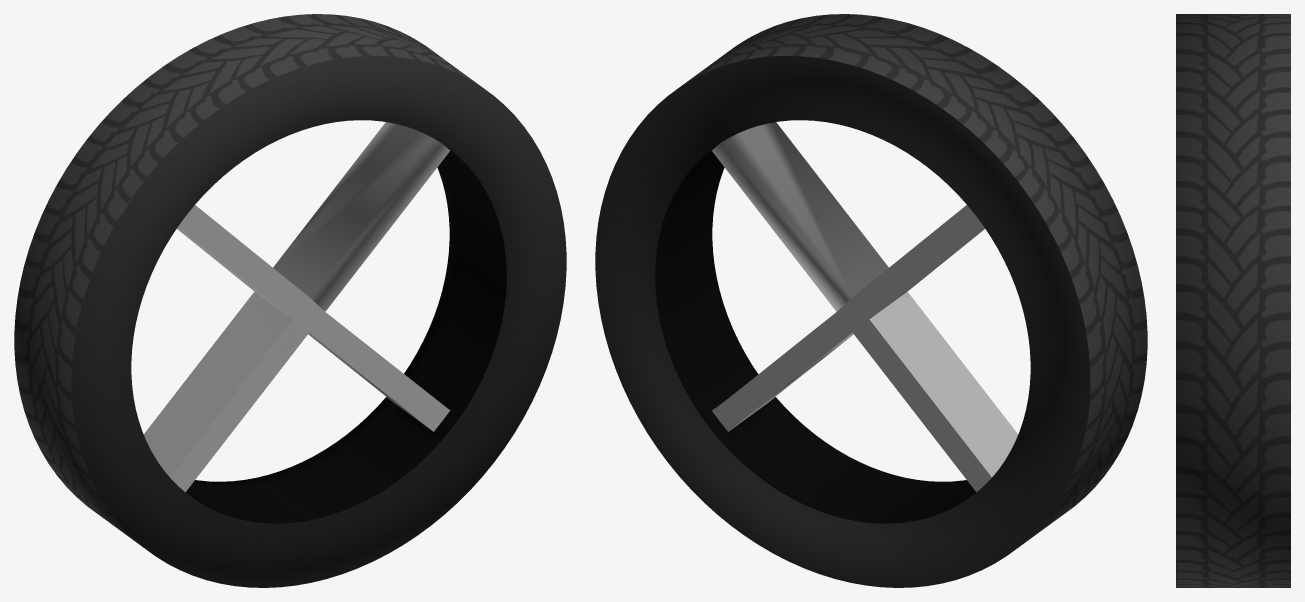
File: tire.obj
The picture shows the model from 3 angles, left to right: view 1: azimuth 30°, elevation 25°; view 2: azimuth 150°, elevation 25°; view 3: azimuth 270°, elevation 25°; orthographic projection.
Visible parts, largest first — view 1: wheel_Circle_Circle.001; view 2: wheel_Circle_Circle.001; view 3: wheel_Circle_Circle.001.
Boxes of the visible parts, x1,y1,x2,y2 form: wheel_Circle_Circle.001: (14,14,566,587); wheel_Circle_Circle.001: (595,14,1147,587); wheel_Circle_Circle.001: (1176,14,1290,587).
Size of the model in its own units: 0.9995 by 0.9995 by 0.2.
